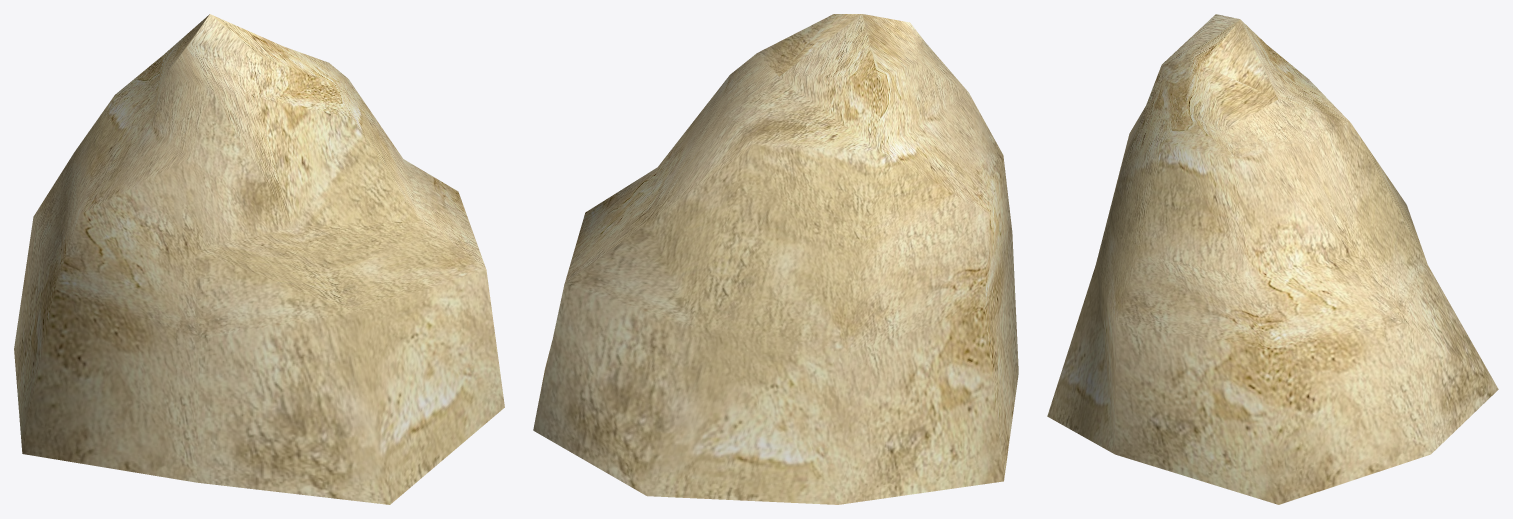
File: mound_cave_med.fbx
3 renders of one model, left to right at view 1: azimuth 30°, elevation 25°; view 2: azimuth 150°, elevation 25°; view 3: azimuth 270°, elevation 25°, orthographic. The views are drawn at different scales.
Parts seen in each view (by area): view 1: mound_med_high; view 2: mound_med_high; view 3: mound_med_high.
Part boxes in pixels (<box>): mound_med_high: <box>14,14,504,504</box>; mound_med_high: <box>533,14,1018,504</box>; mound_med_high: <box>1047,14,1498,504</box>.
Size of the model in its own units: 15562 by 13649 by 15161.
Materials: 1 (1 with a texture image).
